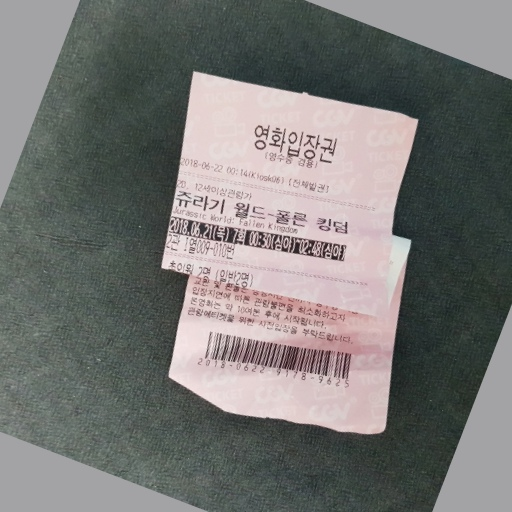Paper_3: (144, 61, 429, 442)
